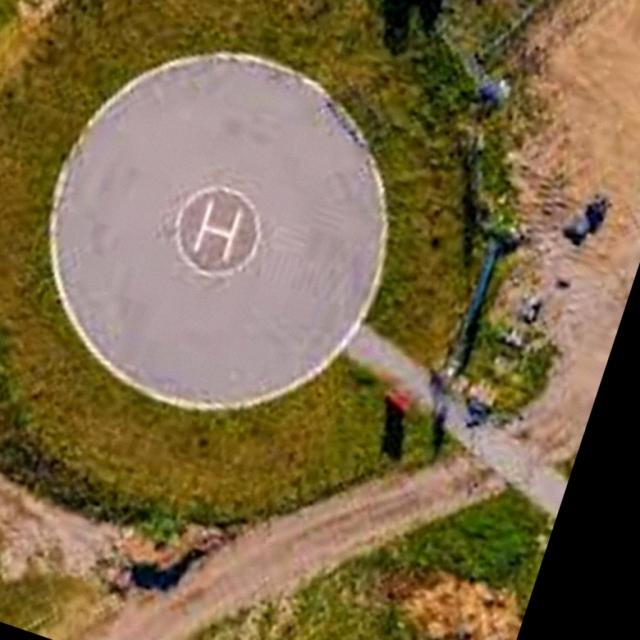helipad: (168, 180, 264, 281)
